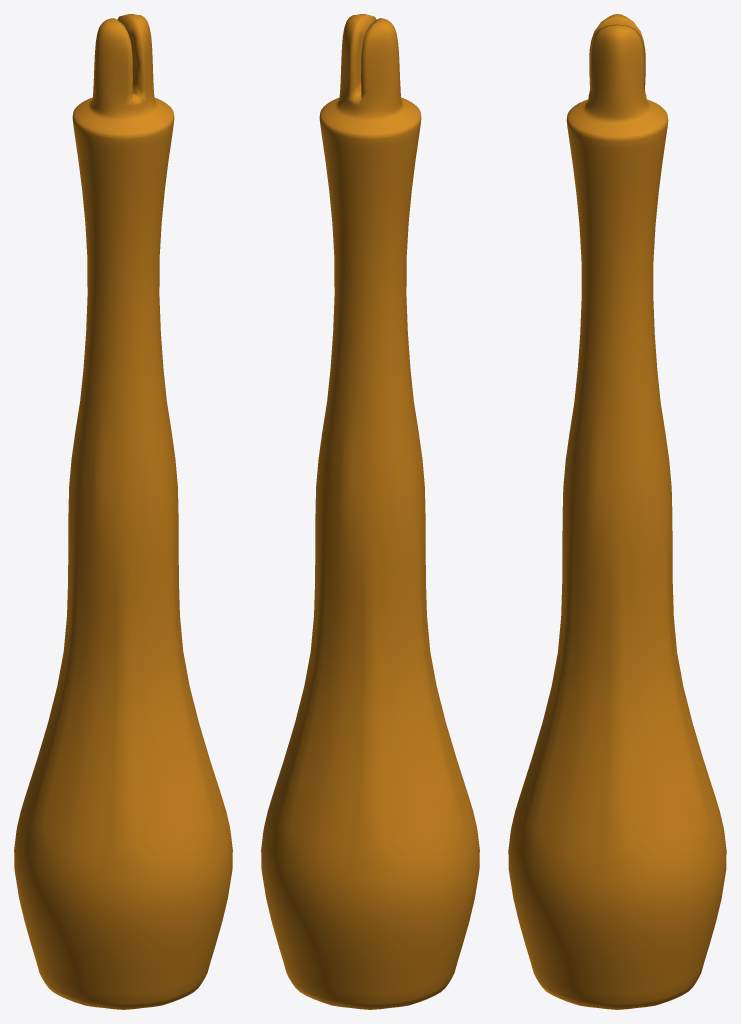
Rendered from screwdriver.fbx.
3 renders of one model, left to right at view 1: azimuth 30°, elevation 25°; view 2: azimuth 150°, elevation 25°; view 3: azimuth 270°, elevation 25°, orthographic.
Parts seen in each view (by area): view 1: Screwdriver; view 2: Screwdriver; view 3: Screwdriver.
Boxes of the visible parts, x1=… form: Screwdriver: x1=14, y1=14, x2=232, y2=1009; Screwdriver: x1=261, y1=14, x2=479, y2=1009; Screwdriver: x1=508, y1=14, x2=726, y2=1009.
Bounding box in the file's own units: 294 × 1425 × 294.
